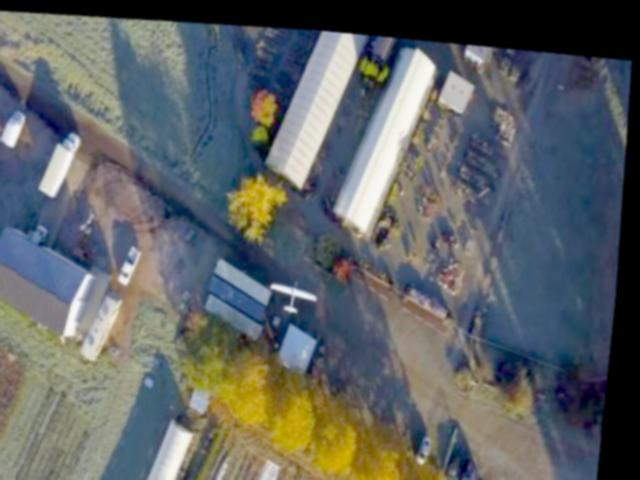uav: (268, 265, 332, 315)
